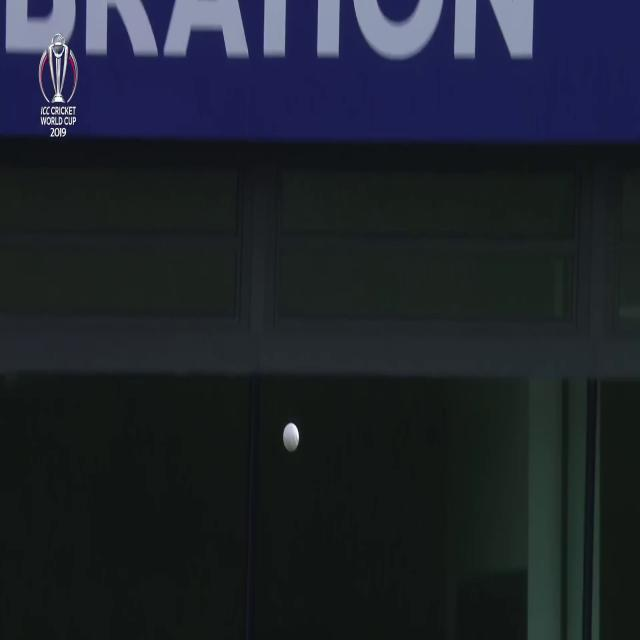ball: (280, 418, 303, 456)
